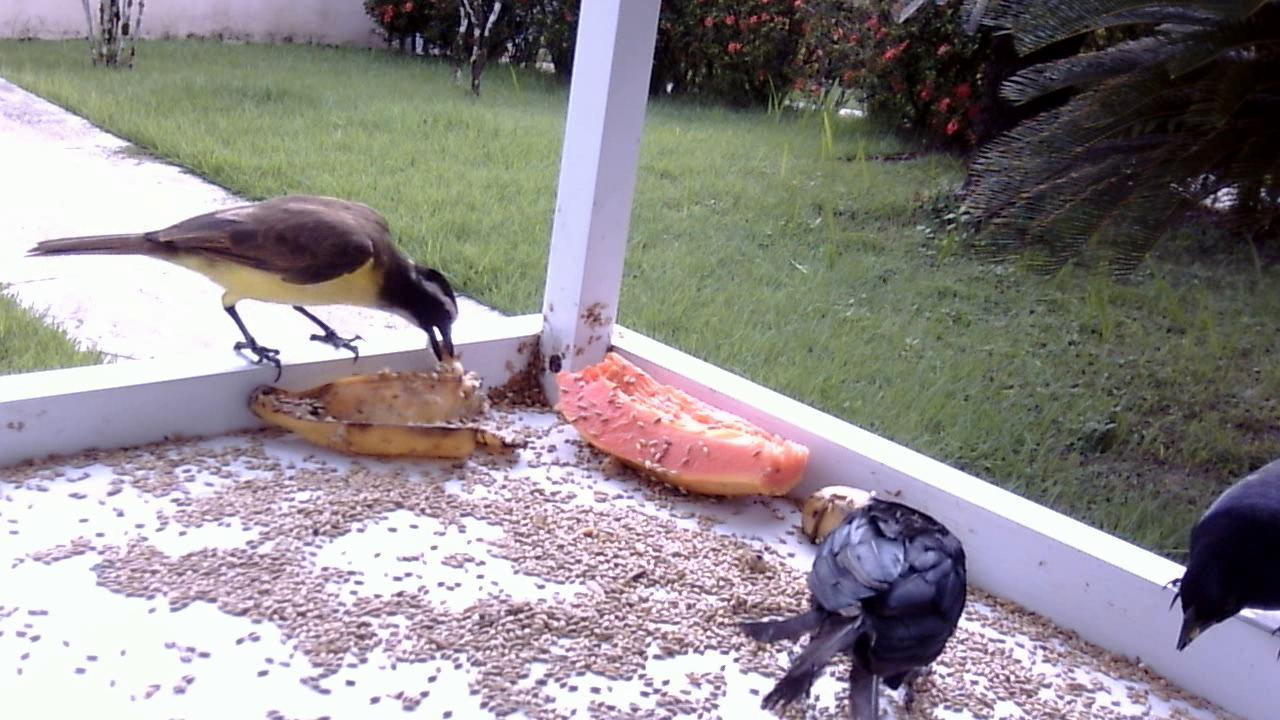bem_te_vi: (17, 187, 458, 382)
chupim: (724, 474, 978, 718), (1158, 452, 1278, 658)
